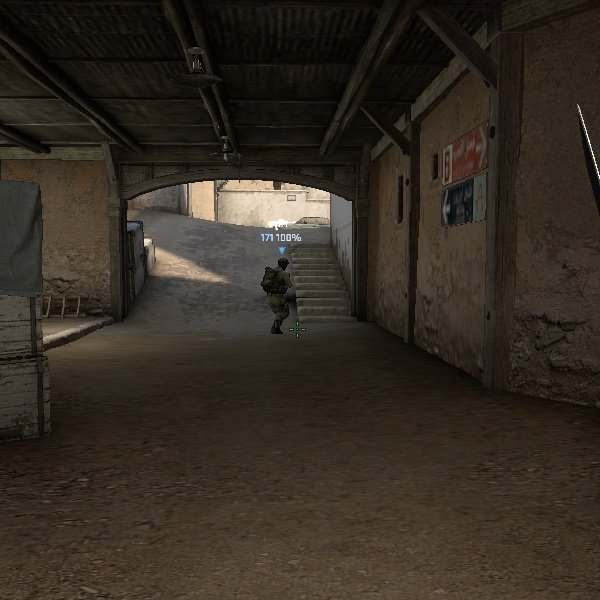ct_body: (262, 257, 294, 332)
ct_head: (277, 257, 289, 272)
